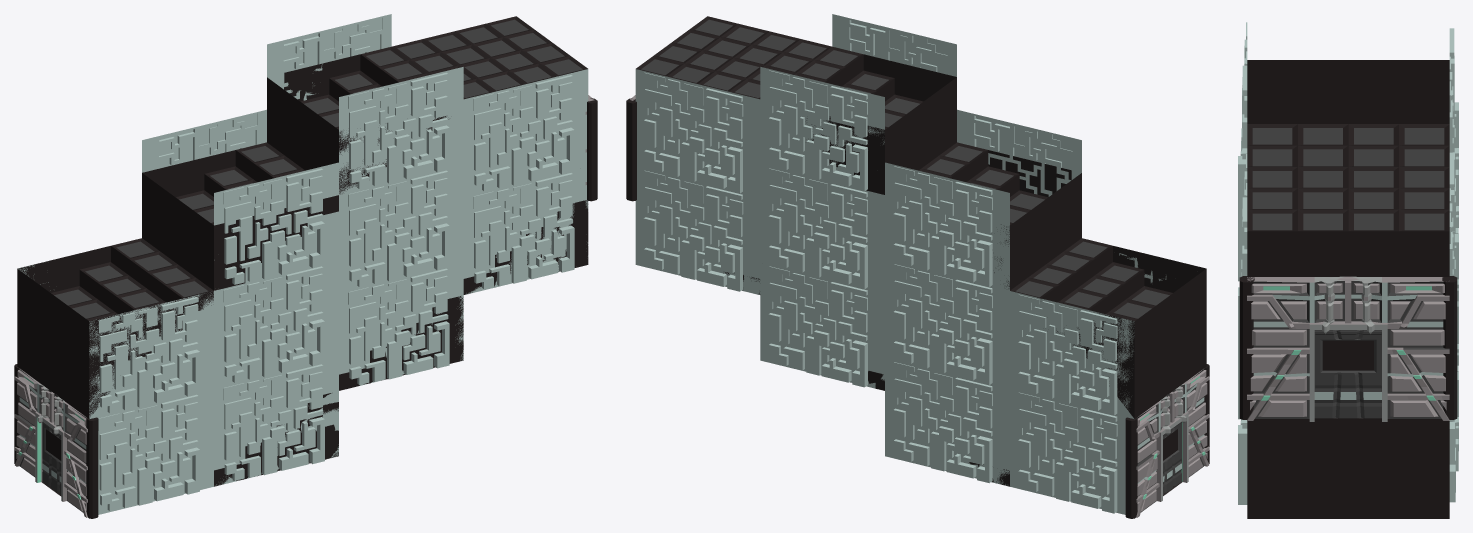
Rendered from room4.fbx.
3 renders of one model, left to right at view 1: azimuth 30°, elevation 25°; view 2: azimuth 150°, elevation 25°; view 3: azimuth 270°, elevation 25°, orthographic. The views are drawn at different scales.
Parts seen in each view (by area): view 1: walls, door 1, door 2; view 2: walls, door 1, door 2; view 3: walls, door 2.
Part boxes in pixels (x1,y1,x2,y2): walls: (17, 14, 588, 514); door 1: (14, 364, 98, 518); door 2: (585, 95, 597, 201); walls: (635, 14, 1206, 514); door 1: (1125, 364, 1209, 518); door 2: (626, 95, 636, 201); walls: (1238, 22, 1458, 518); door 2: (1239, 276, 1457, 421).
Size of the model in its own units: 1667 by 1100 by 436.
